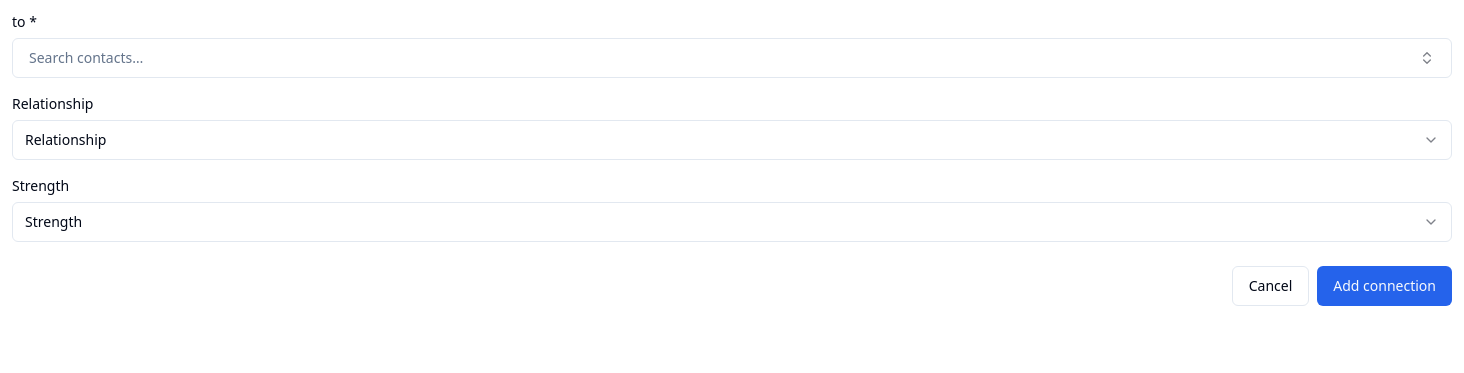
Scenario: AddConnectionForm — strength select has all 3 CONNECTION_STRENGTHS › lists all 3 connection strengths when the strength select is opened
The image size is (1464, 373).
Click the dropdown with id "connection-strength-trigger" at {"x": 54, "y": 222}, box [12, 202, 1452, 242]
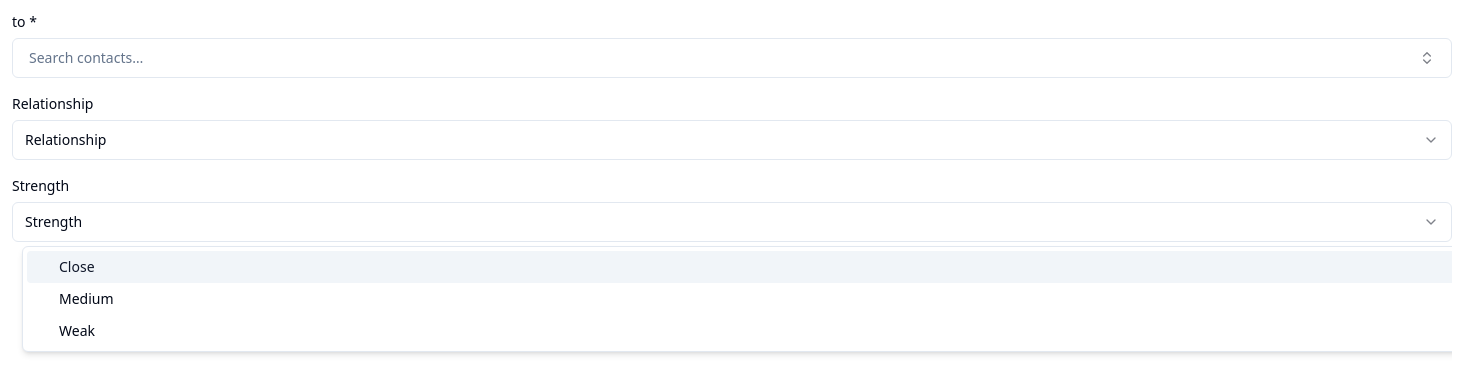
Check: the option "Medium" is shown, box [59, 289, 114, 308]
Check: the option "Weak" is shown, box [59, 321, 95, 340]
